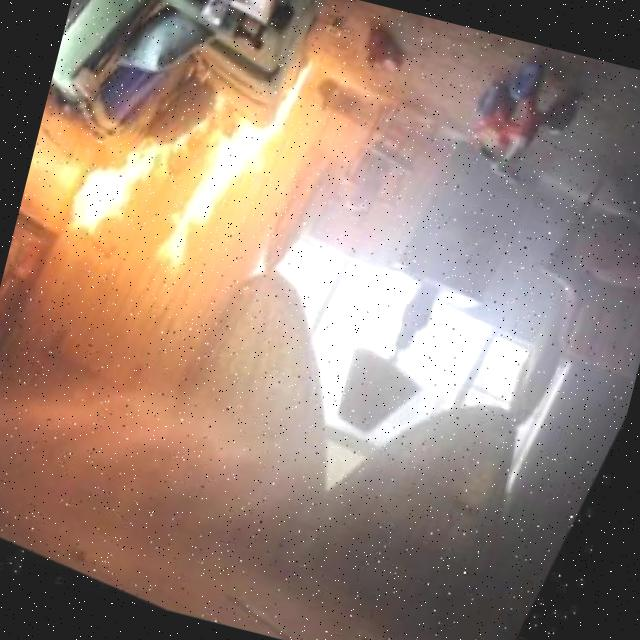fire: (58, 62, 290, 296)
